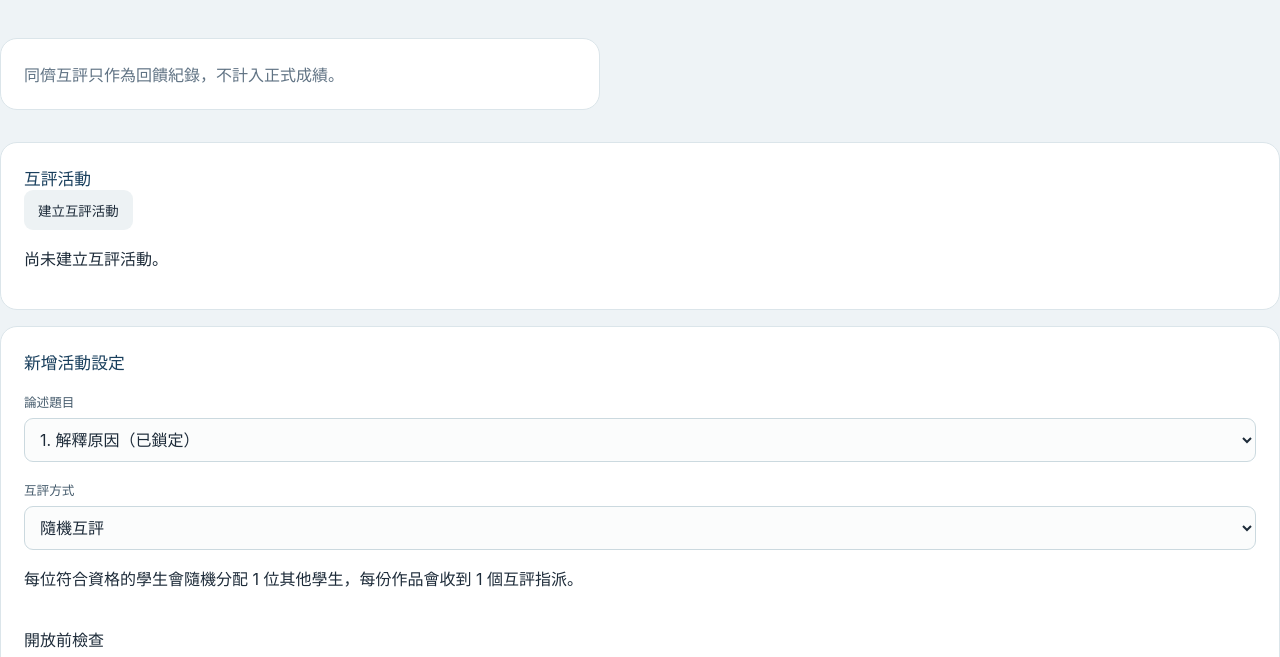
Test: Teacher Peer Review setup › defaults to current grouping and preserves historical selection on OPEN
Select "跨組互評" in the dropdown labelled "互評方式" at (640, 528), box [24,506,1256,550]
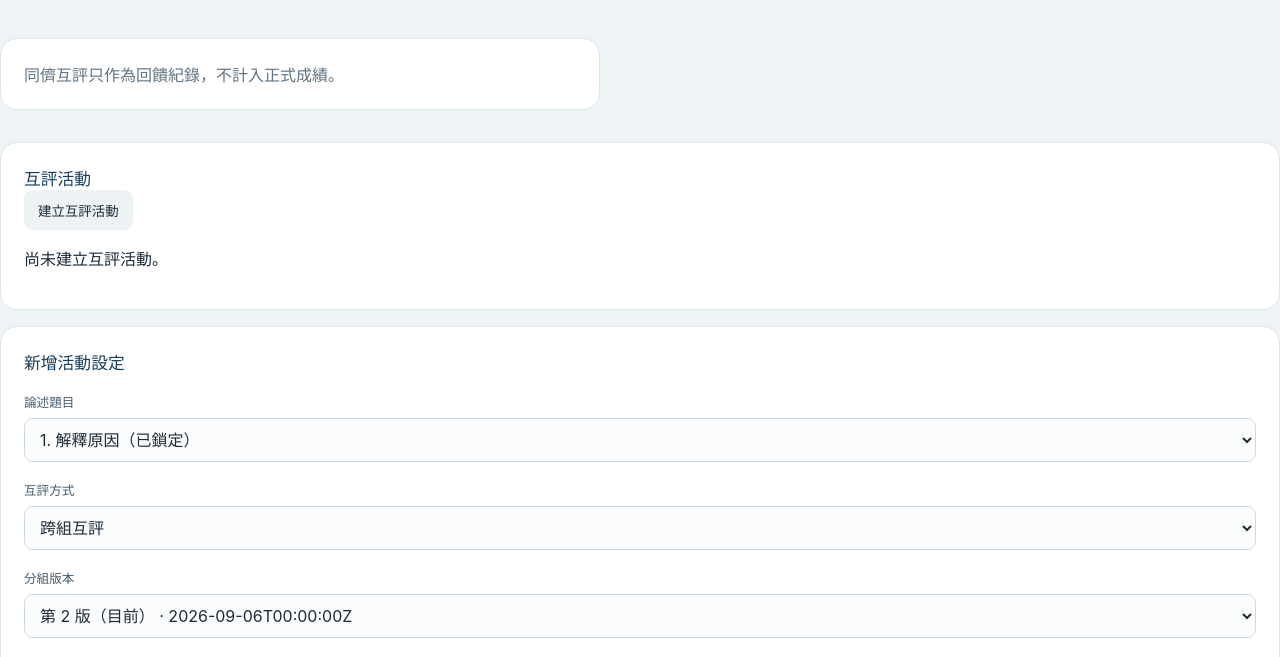
Result: the dropdown labelled "分組版本" shows "第 2 版（目前） · 2026-09-06T00:00:00Z"
Select "第 1 版 · 2026-09-06T00:00:00Z" in the dropdown labelled "分組版本" at (640, 616), box [24,594,1256,638]
(page scrolled)
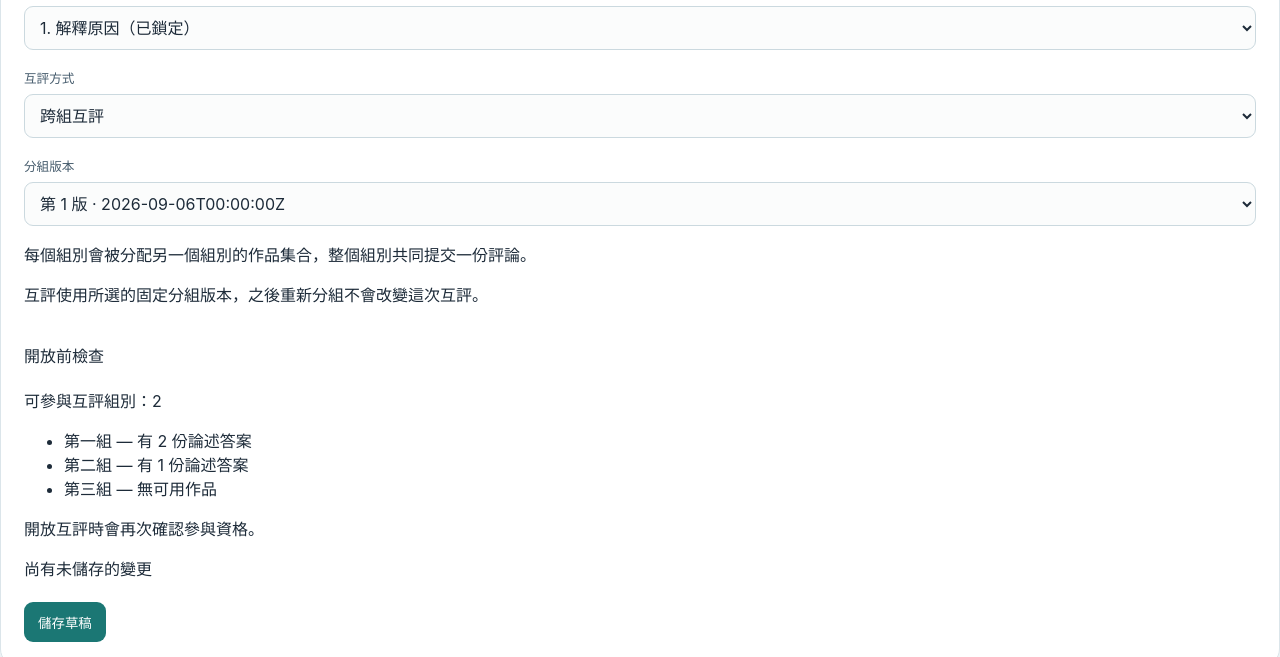
Click the button "儲存草稿".
click(65, 622)  # box [24,602,106,642]
(page scrolled)
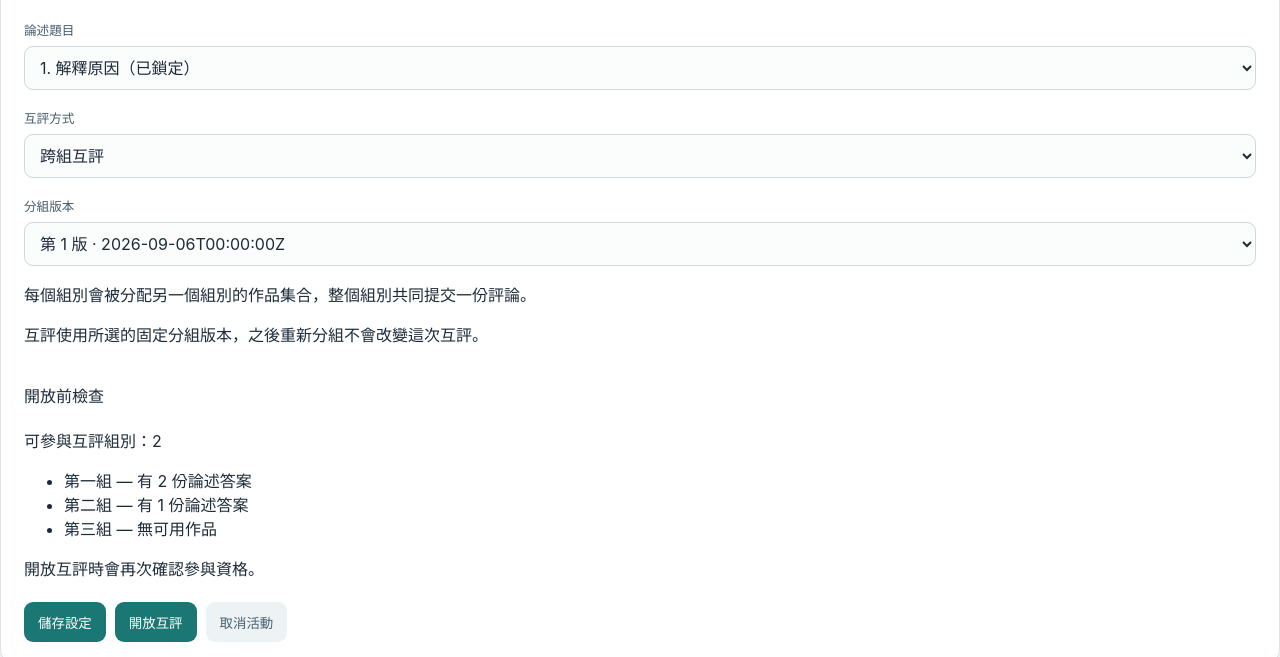
Click the button "開放互評".
click(156, 622)  # box [115,602,197,642]
(page scrolled)
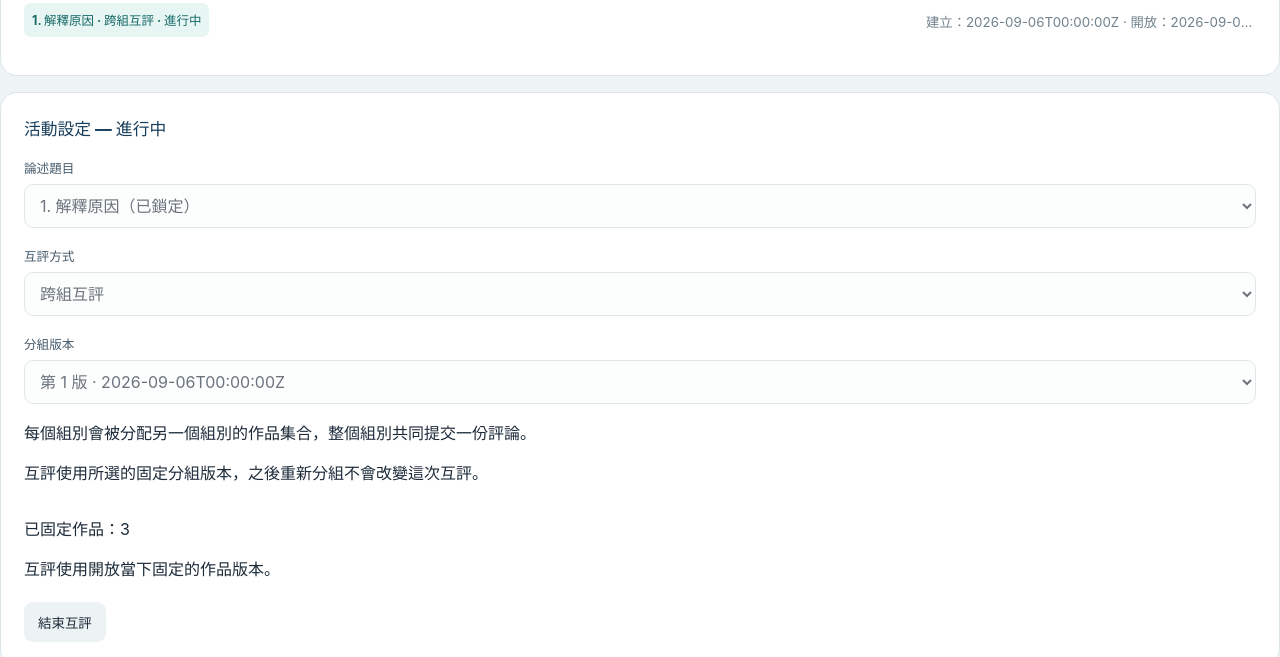
Result: the dropdown labelled "分組版本" is disabled at [24,360,1256,404]
Result: the button "結束互評" is shown at [24,602,106,642]
